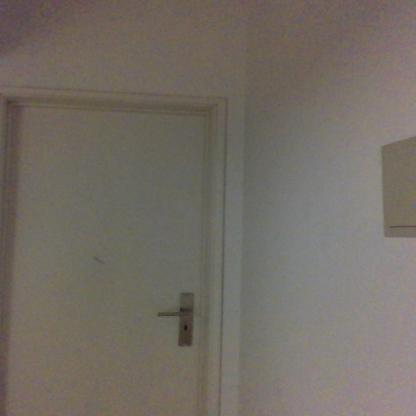door: (9, 101, 212, 416)
lever: (156, 310, 194, 318)
